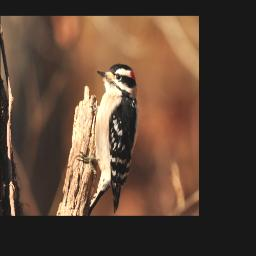Woodpecker: (75, 59, 139, 213)
